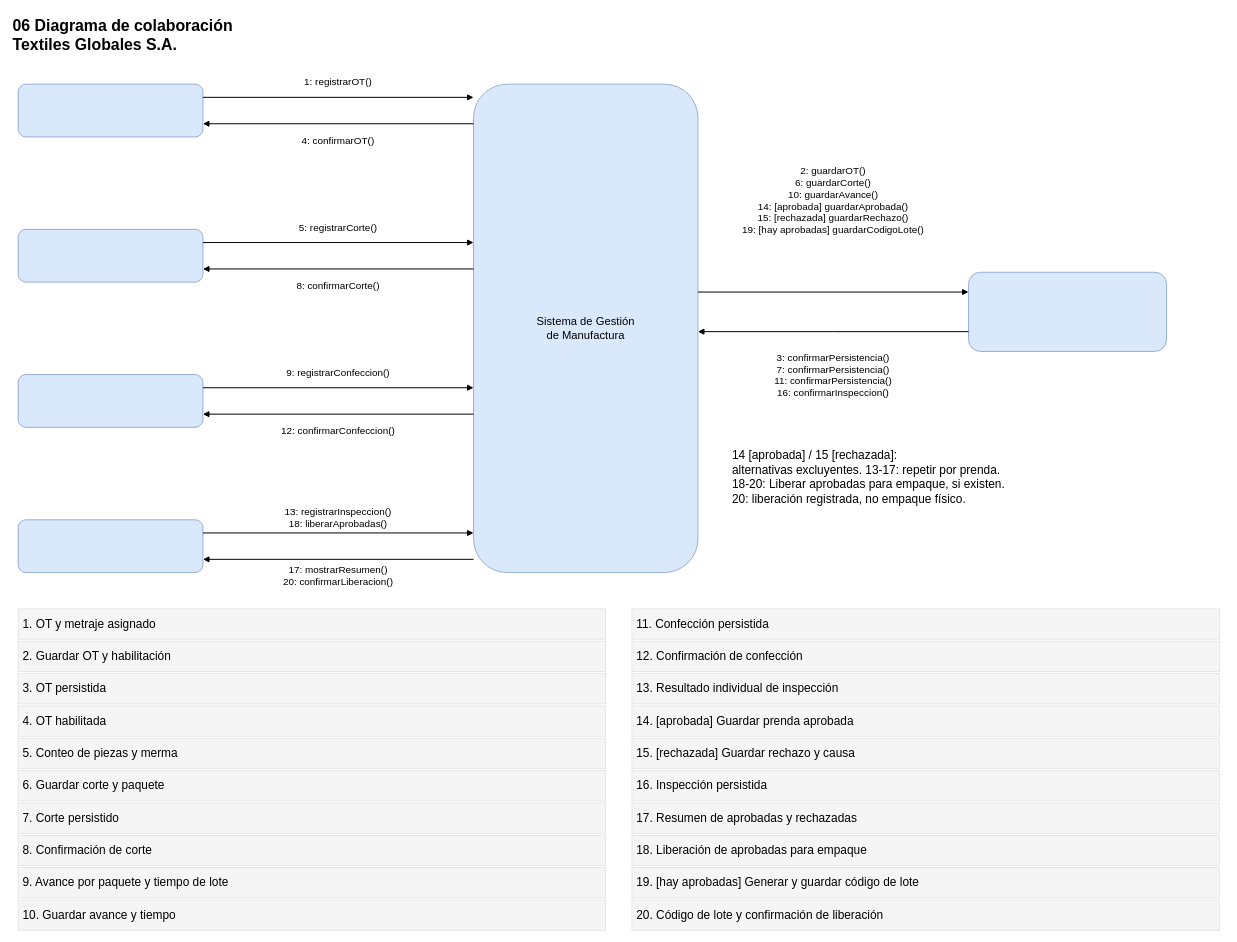
This 1237x942 diagram has some shape labels left out. Here are the shapes that lost their labels. From the top down, the centre of each, then its label:
(110,110): Jefe de Planta
(110,255): Operario de Corte
(1067,311): Persistencia PostgreSQL
(110,400): Operario de Confección
(110,546): Inspector de Calidad
